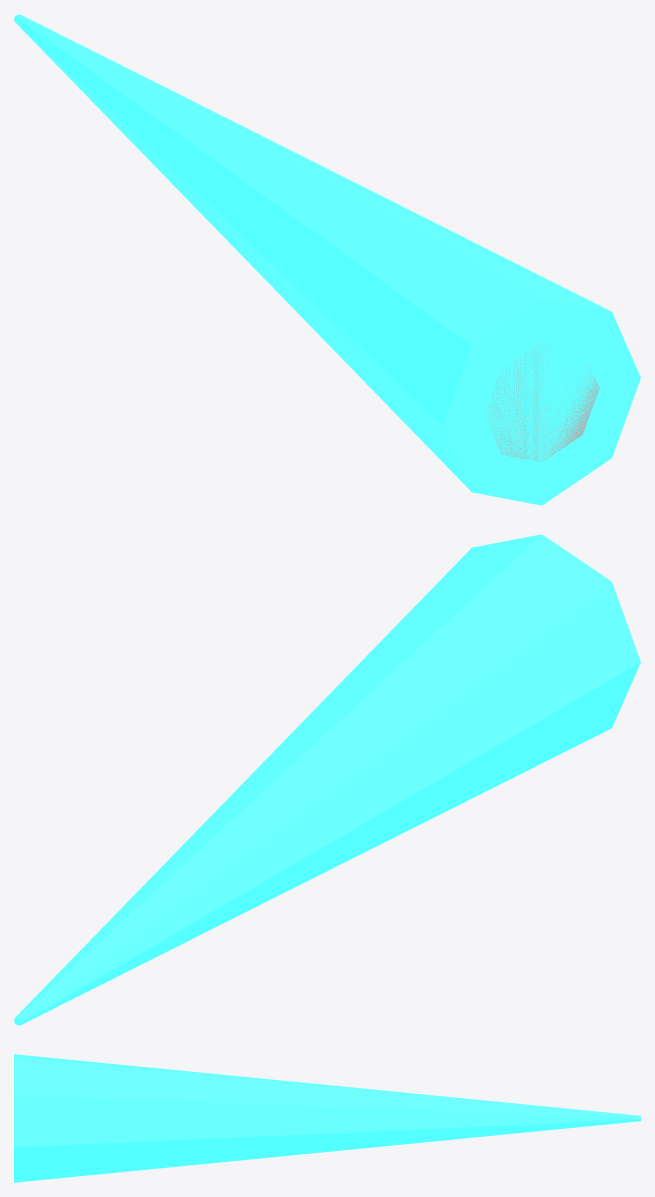
Rendered from VXFX_THRUSTER_v001.fbx.
The picture shows the model from 3 angles, top to bottom: view 1: azimuth 30°, elevation 25°; view 2: azimuth 150°, elevation 25°; view 3: azimuth 270°, elevation 25°; orthographic projection. The views are drawn at different scales.
Visible parts, largest first — view 1: Missile blue plume, Missile hot core; view 2: Missile blue plume; view 3: Missile blue plume.
Part boxes in pixels (bbox=[...]): Missile blue plume: bbox=[14, 14, 640, 505]; Missile hot core: bbox=[485, 344, 599, 461]; Missile blue plume: bbox=[14, 534, 640, 1025]; Missile blue plume: bbox=[14, 1054, 640, 1182].
Bounding box in the file's own units: 4.8 × 4.8 × 22.
